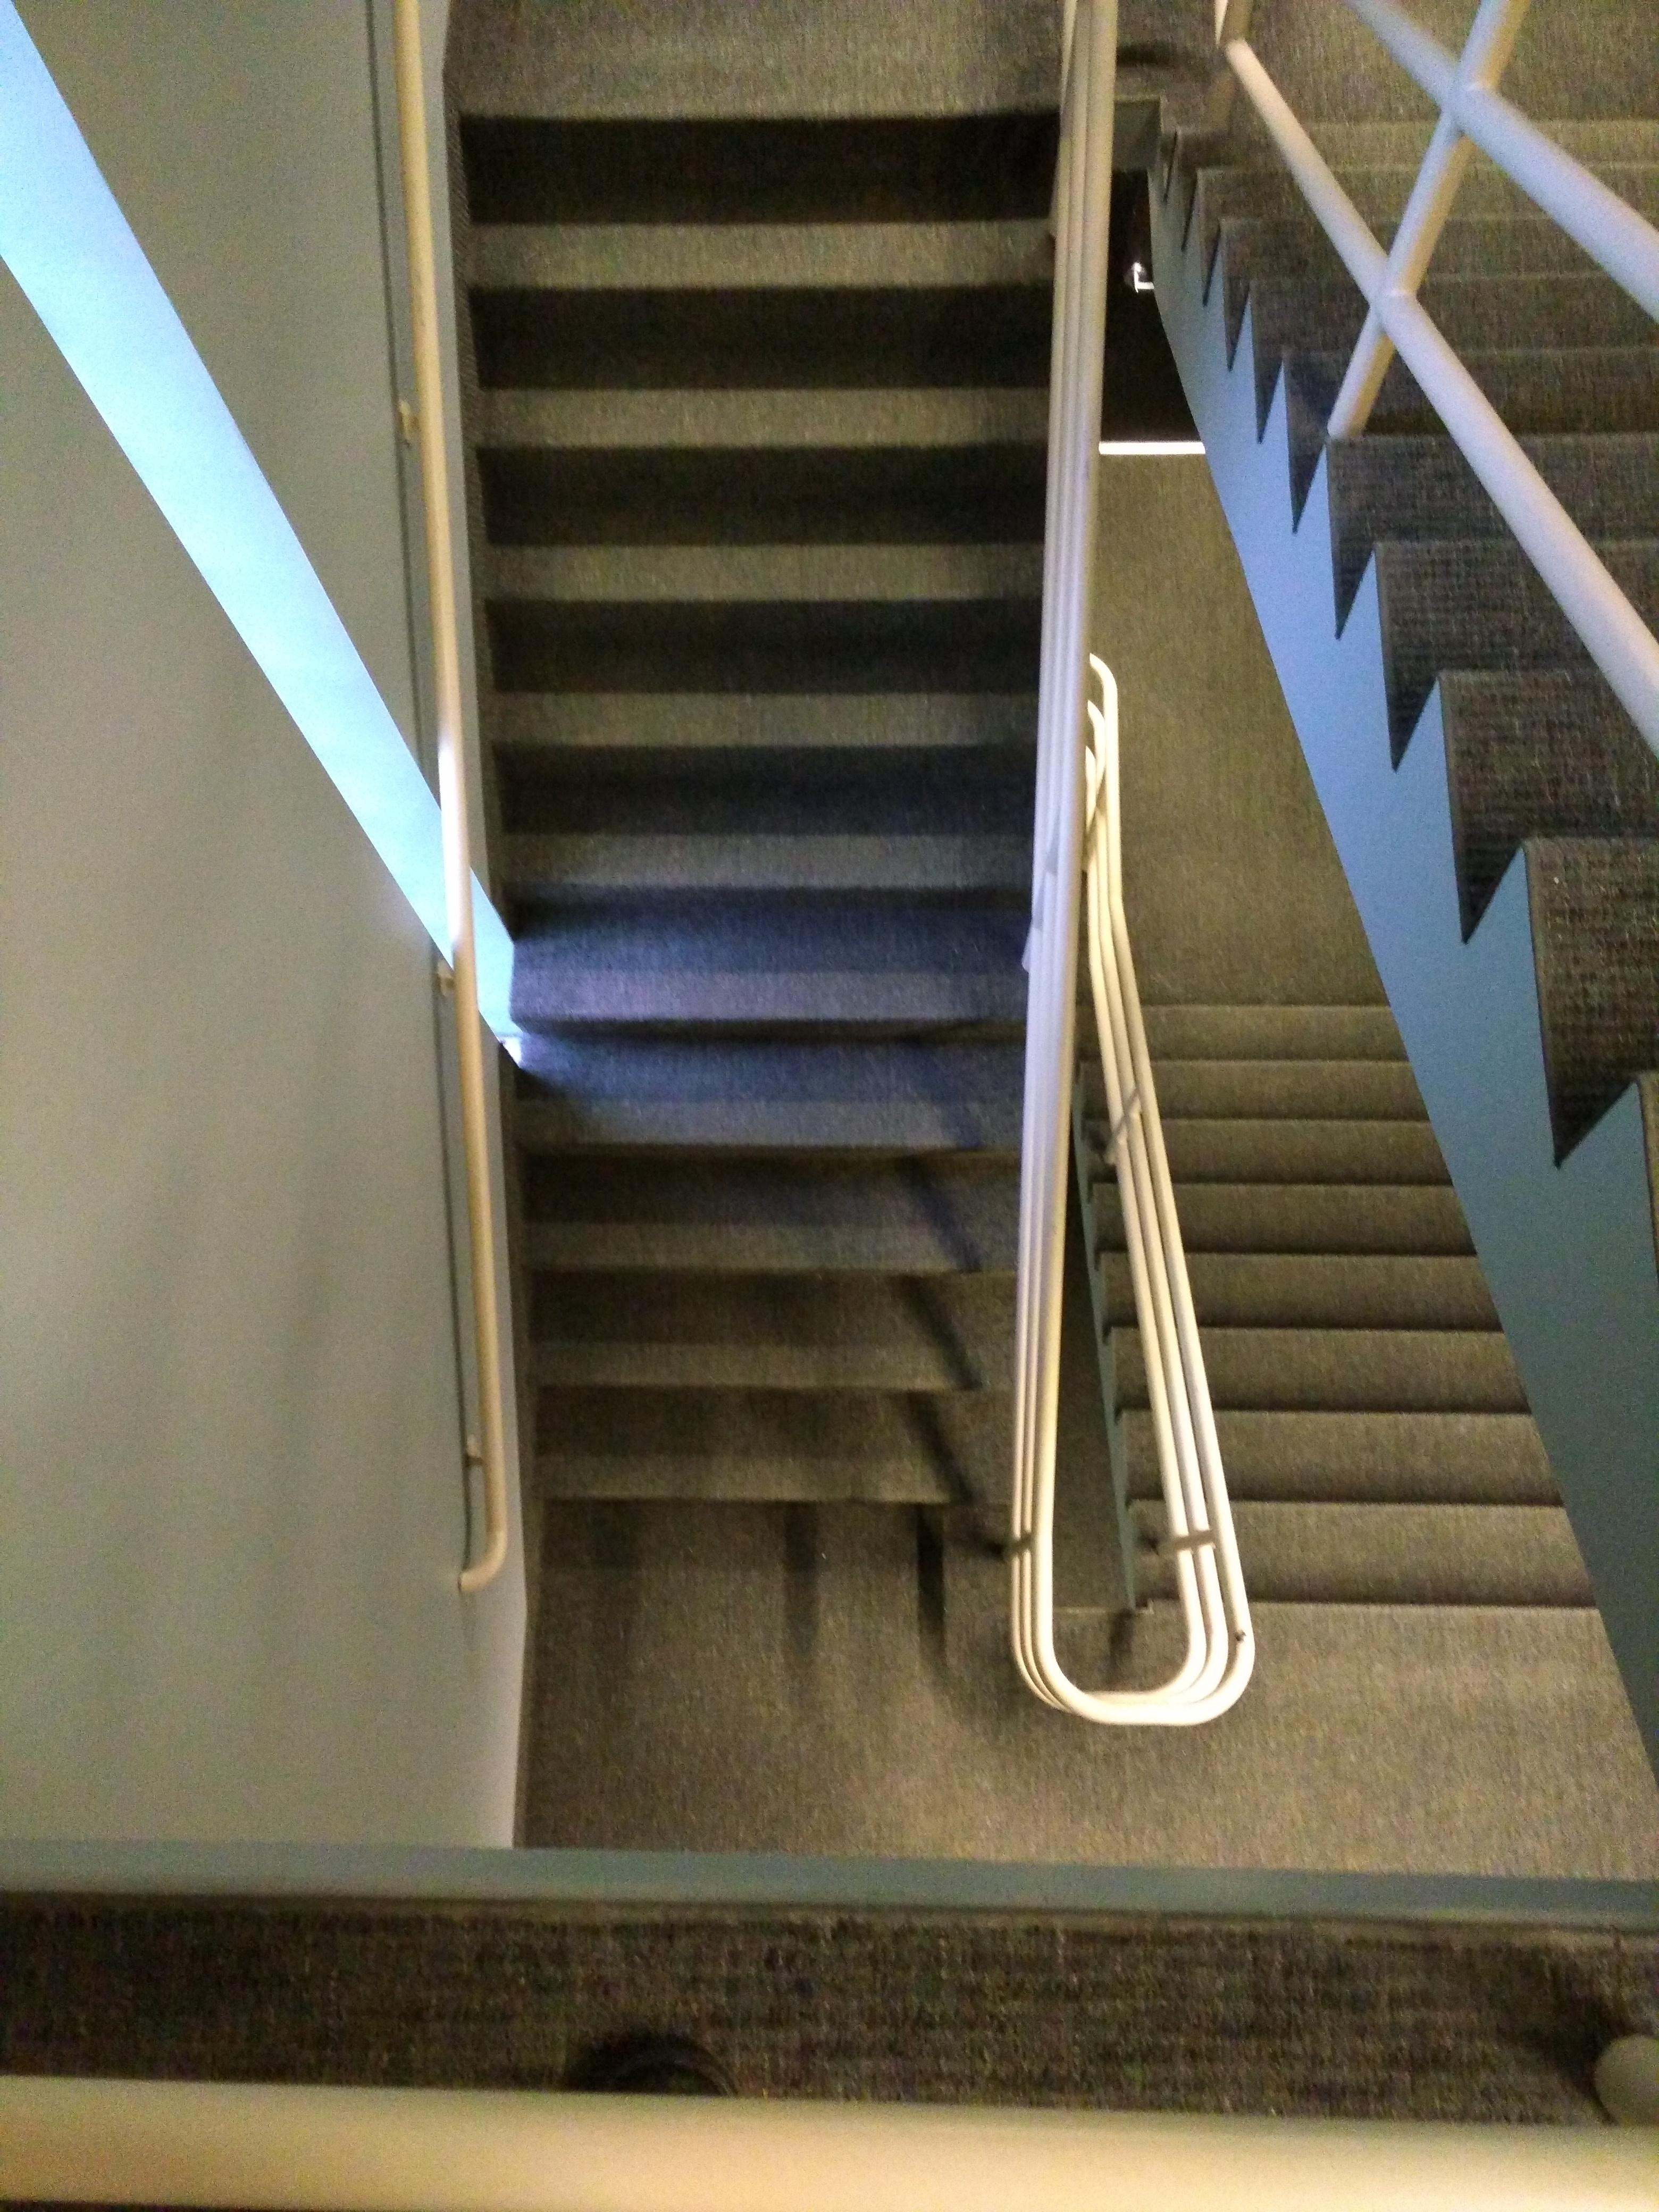stairs_down: (1127, 960, 1473, 1757)
stairs_up: (467, 89, 1033, 1581)
